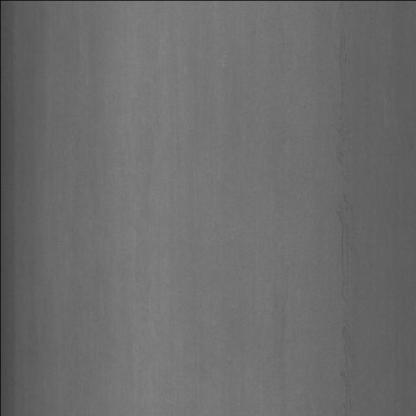silk_spot: (329, 53, 367, 383)
